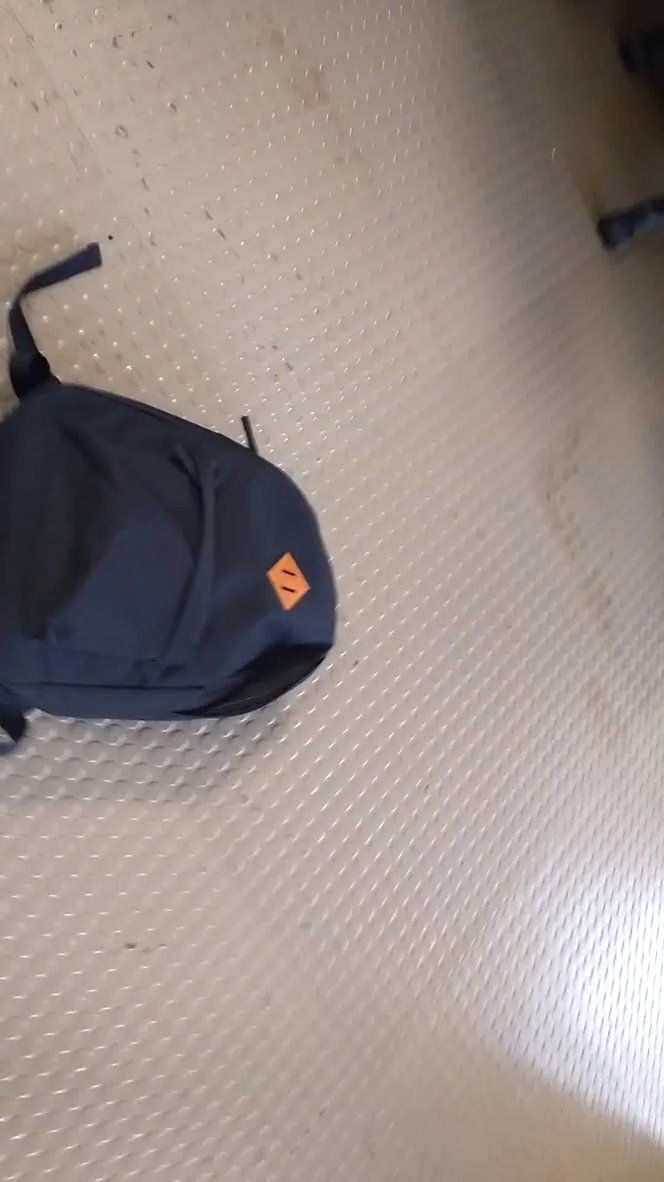bag: (2, 228, 369, 797)
